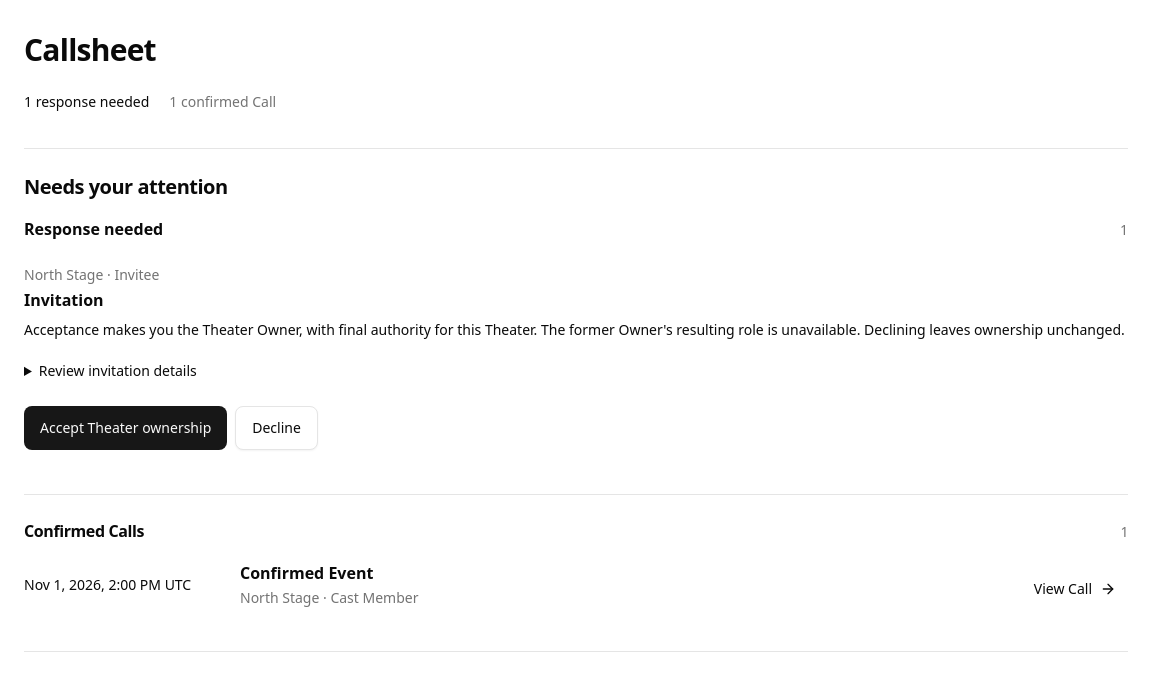
keeps ownership_transfer failures actionable, blocks duplicate responses, and clears only the resolved task
Click the button "Accept Theater ownership": (126, 428) x1=24 y1=406 x2=227 y2=450
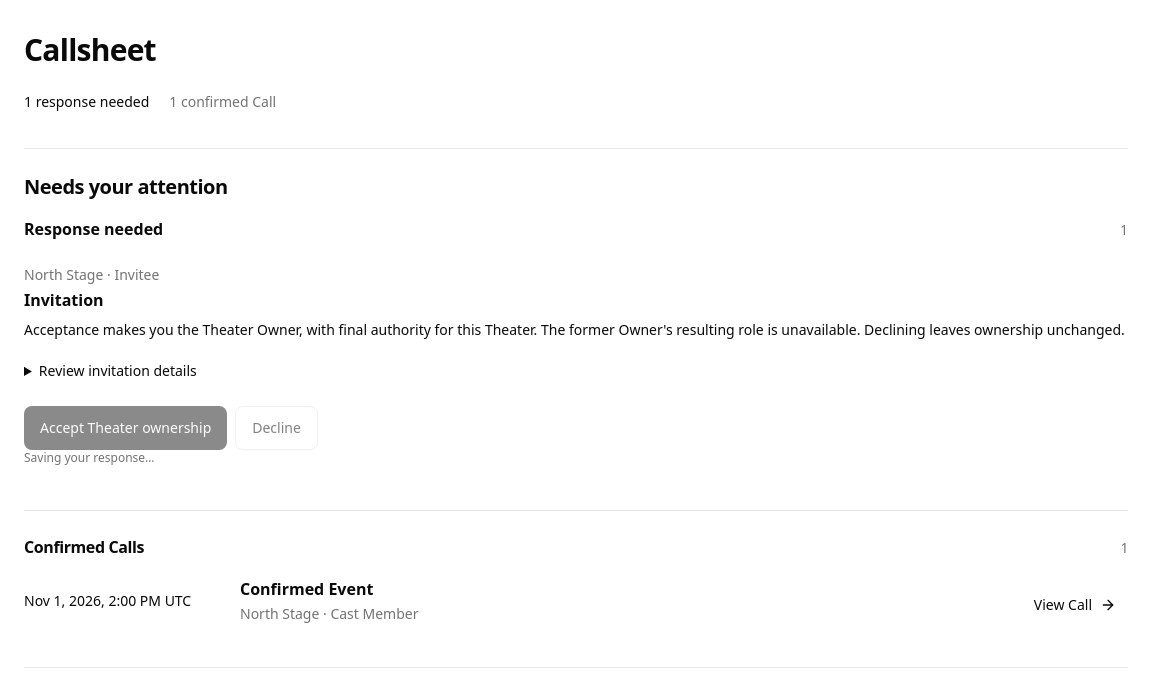
Expected: the button "Accept Theater ownership" is disabled
Expected: the button "Decline" is disabled, x1=235 y1=406 x2=318 y2=450
Expected: the message shows "Saving your response", x1=24 y1=449 x2=155 y2=466
Click the button "Accept Theater ownership": (126, 428) x1=24 y1=406 x2=227 y2=450
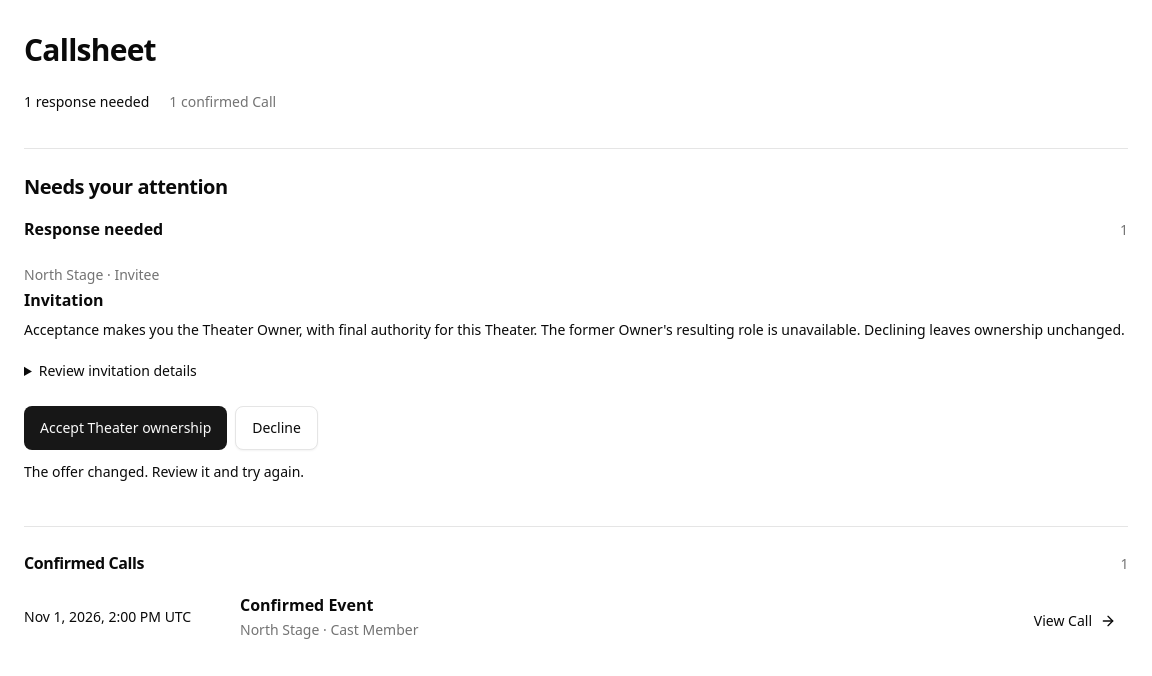
Expected: the message shows "The offer changed", x1=24 y1=462 x2=304 y2=481
Expected: the button "Accept Theater ownership" is enabled, x1=24 y1=406 x2=227 y2=450
Click the button "Decline": (277, 428) x1=235 y1=406 x2=318 y2=450
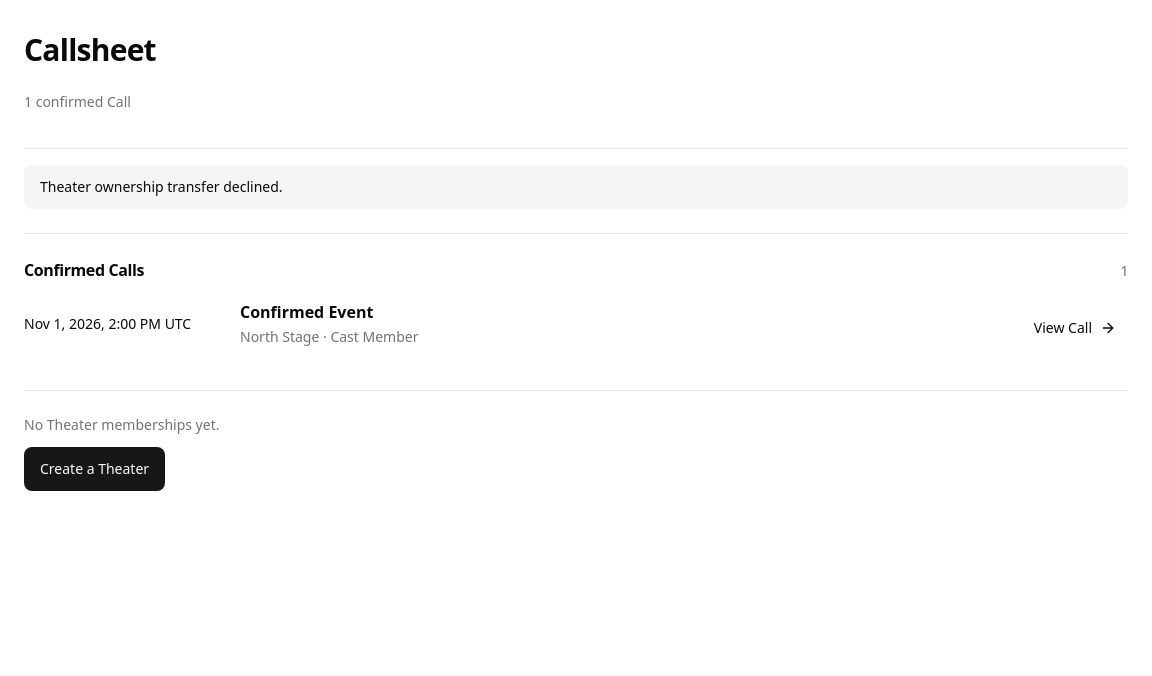
Expected: the heading "Confirmed Event" is shown, x1=240 y1=301 x2=373 y2=323
Expected: the button "Accept Theater ownership" is gone
